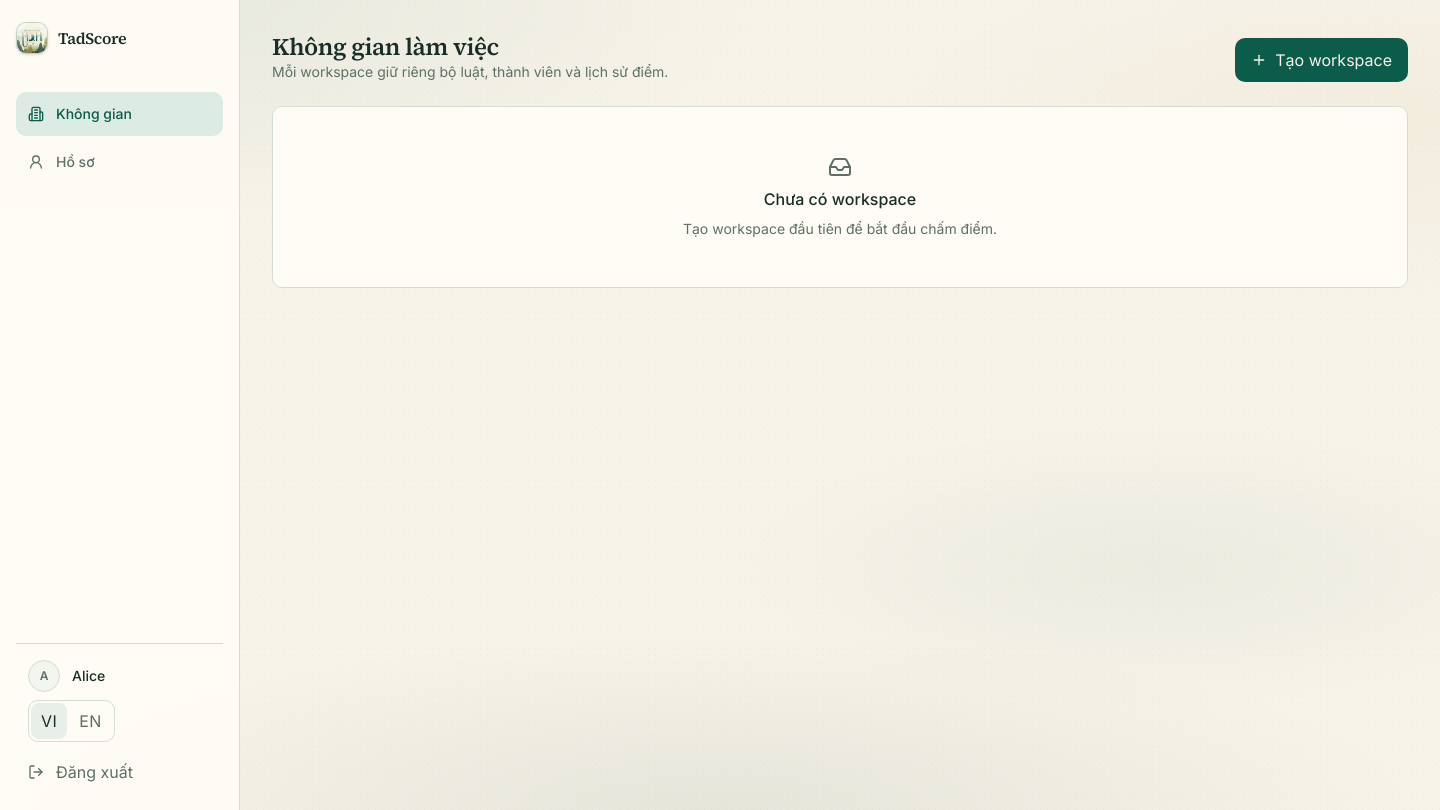
Test: auth flow › clears local session and redirects when logout is already expired server-side
Expected: the heading "Không gian làm việc" is shown, x1=272 y1=30 x2=499 y2=63
Click the button "Đăng xuất". click: (120, 772)
box: x1=16 y1=750 x2=223 y2=794
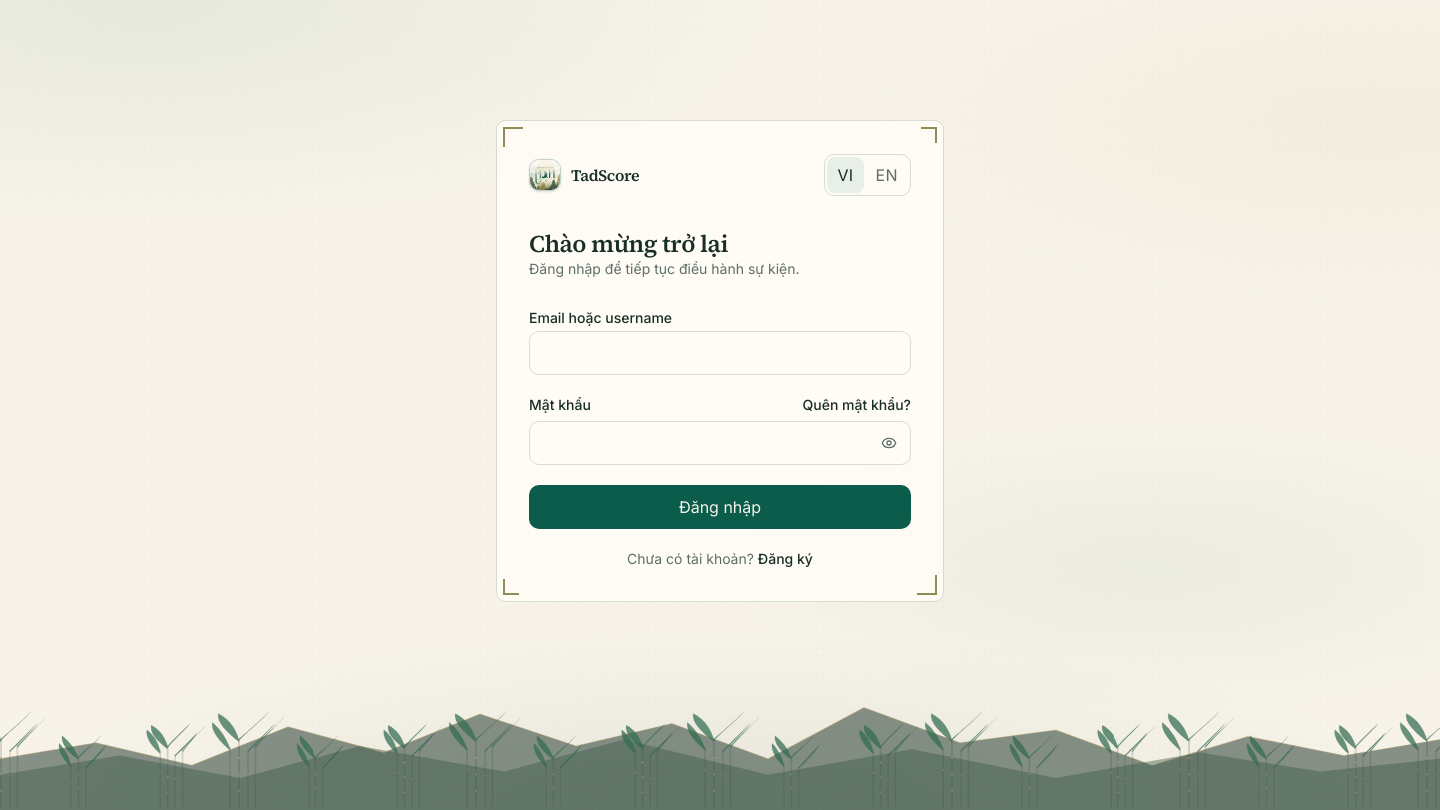
Expected: the heading "Chào mừng trở lại" is shown, x1=529 y1=227 x2=728 y2=260
Expected: the text "Alice" is gone
